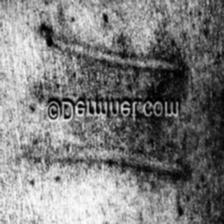Toxin: (28, 17, 192, 97), (23, 125, 198, 183)
